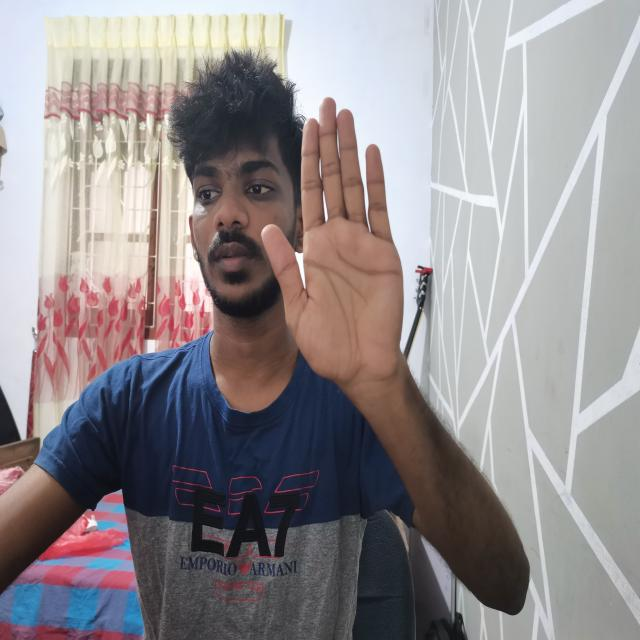Hello: (258, 89, 416, 394)
